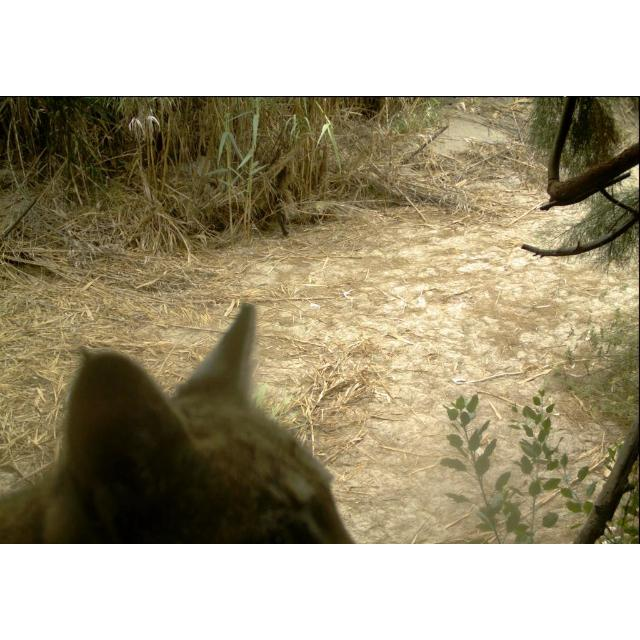animals: (0, 300, 368, 544)
